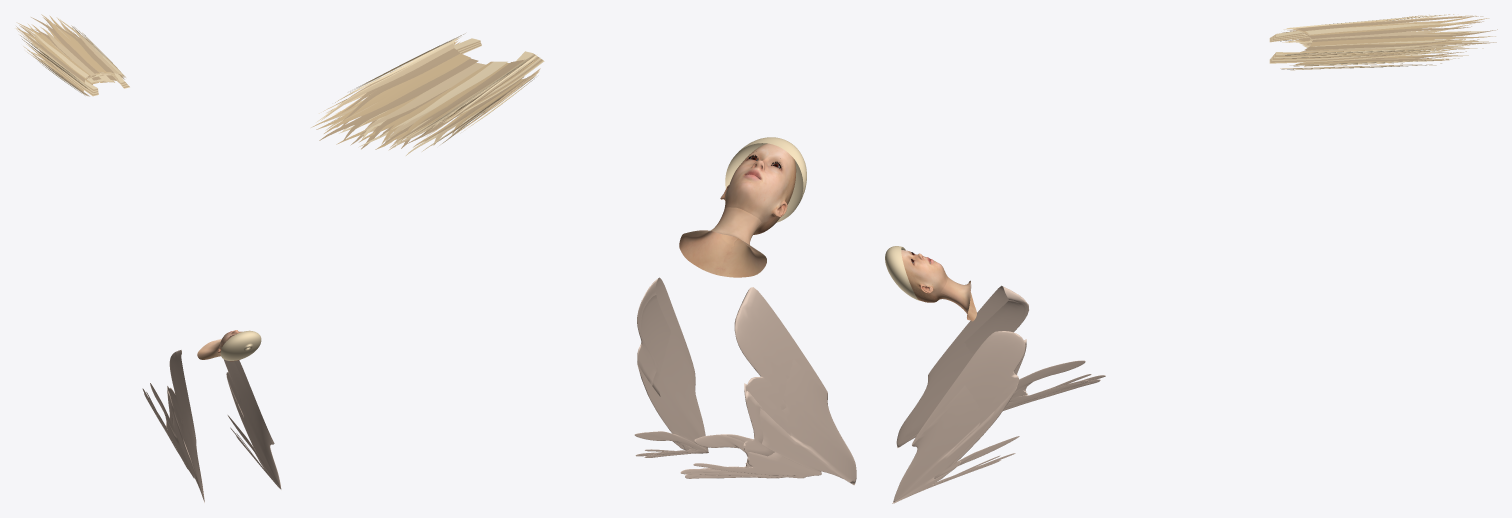
File: riley-blonde-allfours.glb
3 renders of one model, left to right at view 1: azimuth 30°, elevation 25°; view 2: azimuth 150°, elevation 25°; view 3: azimuth 270°, elevation 25°, orthographic. The views are drawn at different scales.
Visible parts, largest first — view 1: Riley | anatomical body, Riley fitted blonde hair crown, Riley soft blonde layer 0 strand 20, Riley soft blonde layer 0 strand 23, Riley soft blonde layer 0 strand 26; view 2: Riley | anatomical body, Riley fitted blonde hair crown, Riley soft blonde layer 0 strand 20, Riley soft blonde layer 0 strand 26, Riley soft blonde layer 0 strand 23, Riley soft blonde layer 0 strand 15, Riley soft blonde layer 0 strand 33, Riley soft blonde layer 0 strand 10, Riley soft blonde layer 0 strand 39; view 3: Riley | anatomical body, Riley fitted blonde hair crown.
Part boxes in pixels (x1=…): Riley | anatomical body: x1=142, y1=330, x2=281, y2=502; Riley fitted blonde hair crown: x1=220, y1=330, x2=261, y2=360; Riley soft blonde layer 0 strand 20: x1=41, y1=14, x2=105, y2=72; Riley soft blonde layer 0 strand 23: x1=31, y1=17, x2=101, y2=73; Riley soft blonde layer 0 strand 26: x1=40, y1=27, x2=97, y2=75; Riley | anatomical body: x1=634, y1=143, x2=856, y2=485; Riley fitted blonde hair crown: x1=725, y1=137, x2=806, y2=222; Riley soft blonde layer 0 strand 20: x1=324, y1=53, x2=470, y2=133; Riley soft blonde layer 0 strand 26: x1=363, y1=62, x2=485, y2=131; Riley soft blonde layer 0 strand 23: x1=343, y1=58, x2=478, y2=140; Riley soft blonde layer 0 strand 15: x1=343, y1=48, x2=459, y2=120; Riley soft blonde layer 0 strand 33: x1=391, y1=61, x2=507, y2=129; Riley soft blonde layer 0 strand 10: x1=321, y1=43, x2=454, y2=120; Riley soft blonde layer 0 strand 39: x1=394, y1=59, x2=524, y2=142; Riley | anatomical body: x1=892, y1=250, x2=1105, y2=503; Riley fitted blonde hair crown: x1=885, y1=246, x2=920, y2=300.
Size of the model in its own units: 0.4299 by 1.75 by 2.16.
Materials: 10 (5 with a texture image).
